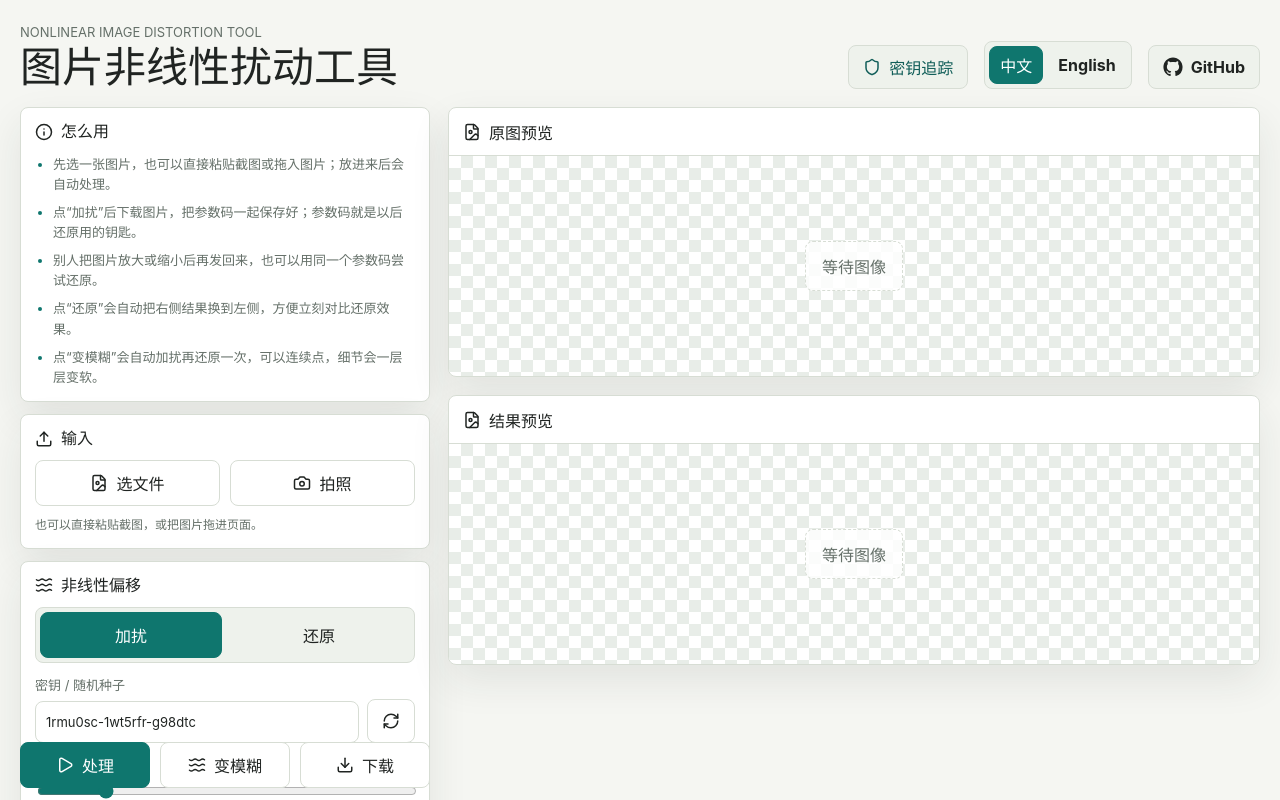
Scenario: App › switches between Chinese and English labels
Click the button "English".
click(1087, 65)  # box [1047, 48, 1127, 82]
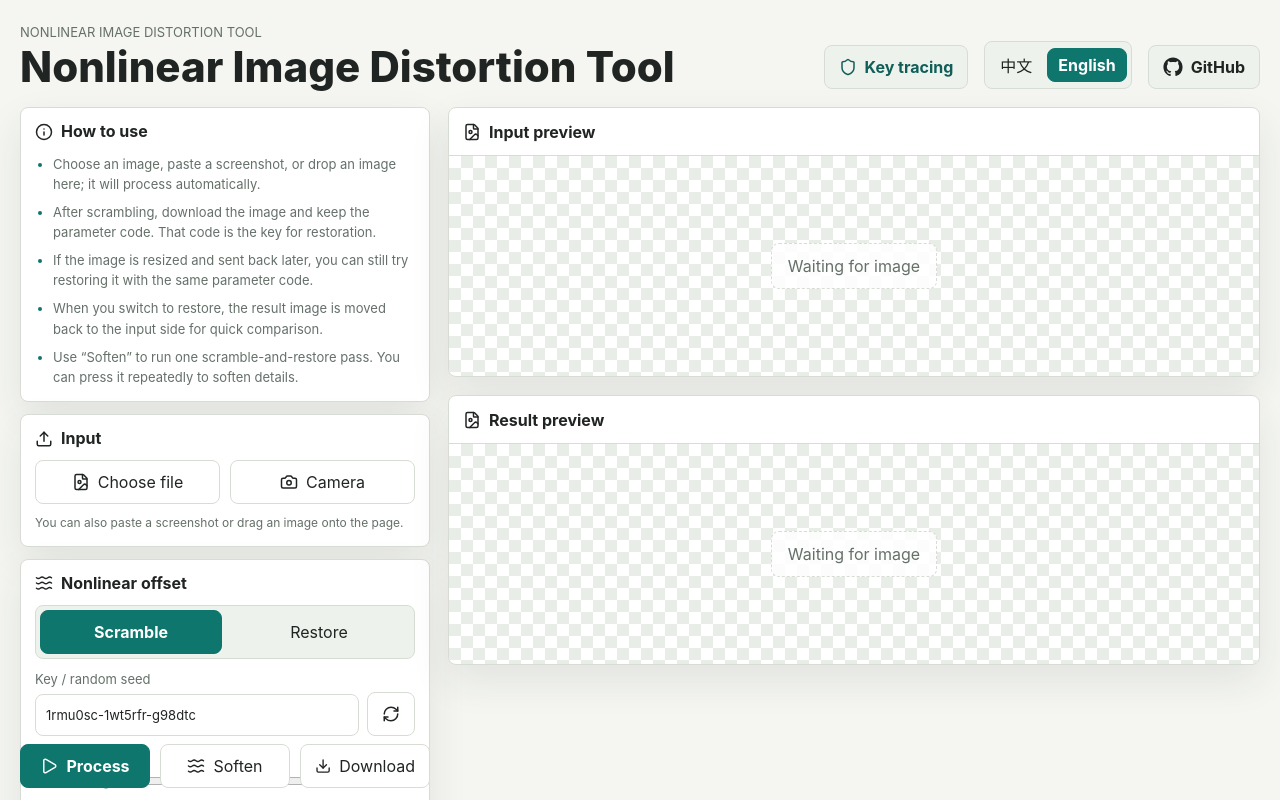
Expected: the heading "Nonlinear Image Distortion Tool" is shown, [20, 44, 675, 89]
Expected: the heading "How to use" is shown, [61, 122, 148, 142]
Expected: the button "Choose file" is shown, [35, 460, 220, 504]
Click the button "中文".
click(1016, 65)  # box [989, 46, 1043, 84]
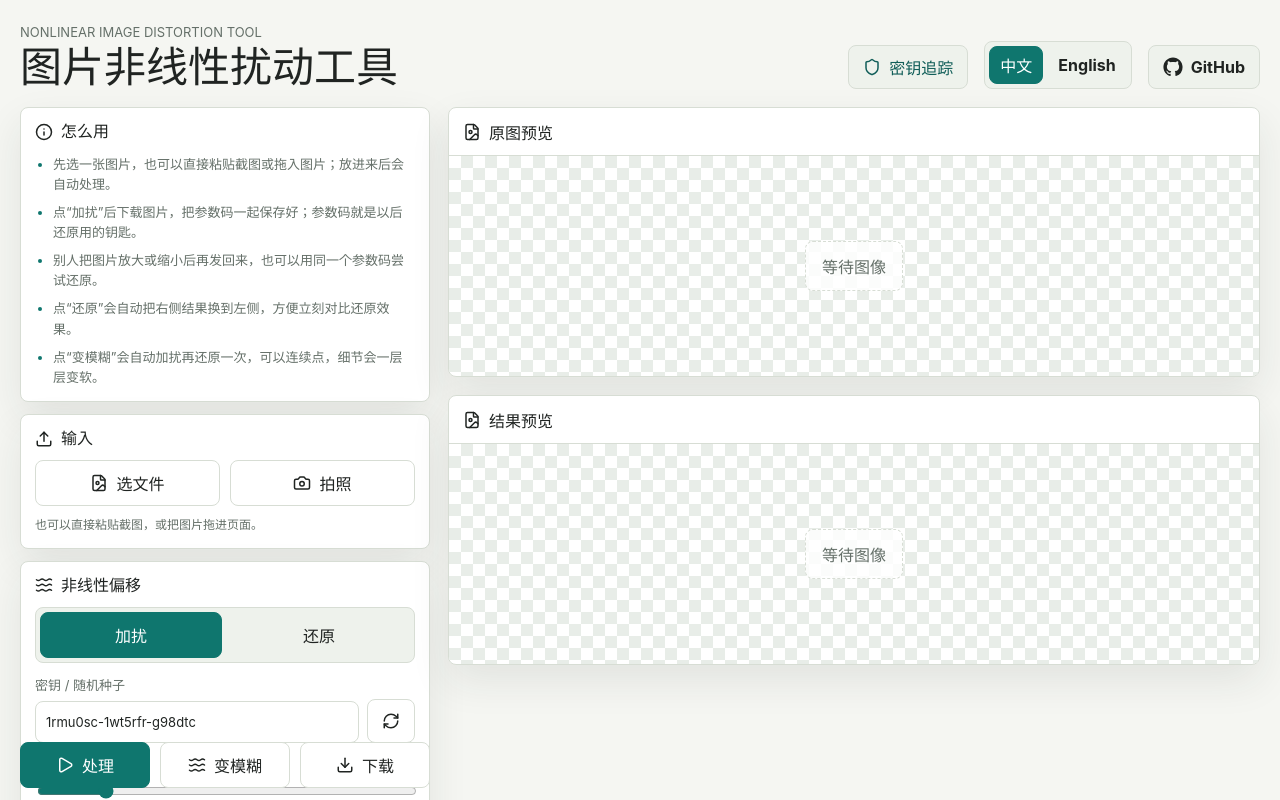
Expected: the heading "图片非线性扰动工具" is shown, [20, 44, 398, 89]
Expected: the heading "怎么用" is shown, [61, 122, 109, 142]
